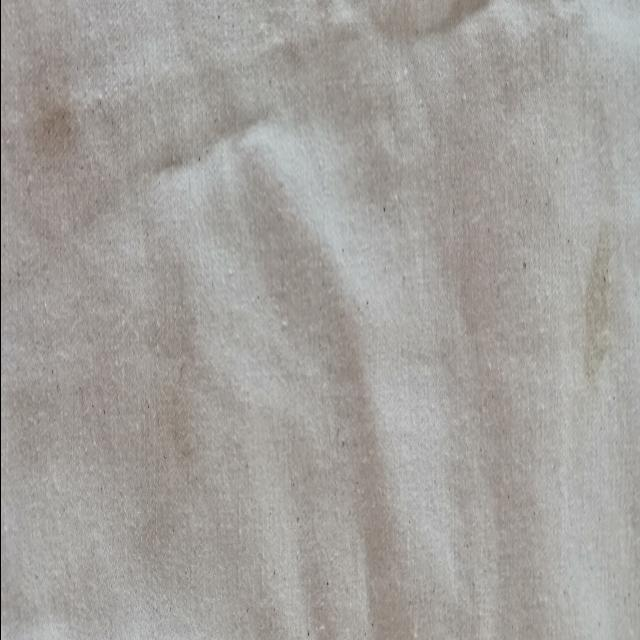taaaches: (566, 206, 624, 408)
